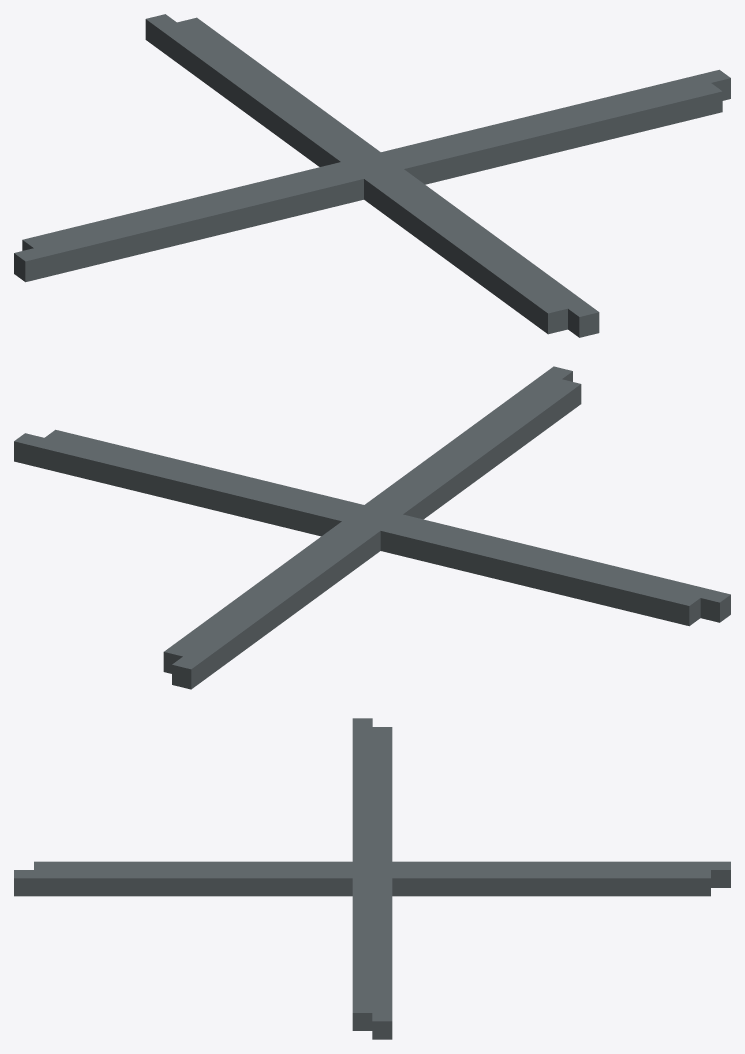
The model's file is heli_rotor.obj.
3 renders of one model, top to bottom at view 1: azimuth 30°, elevation 25°; view 2: azimuth 150°, elevation 25°; view 3: azimuth 270°, elevation 25°, orthographic. The views are drawn at different scales.
Size of the model in its own units: 3.6 by 0.1 by 3.6.
Materials: 1 (1 with a texture image).
